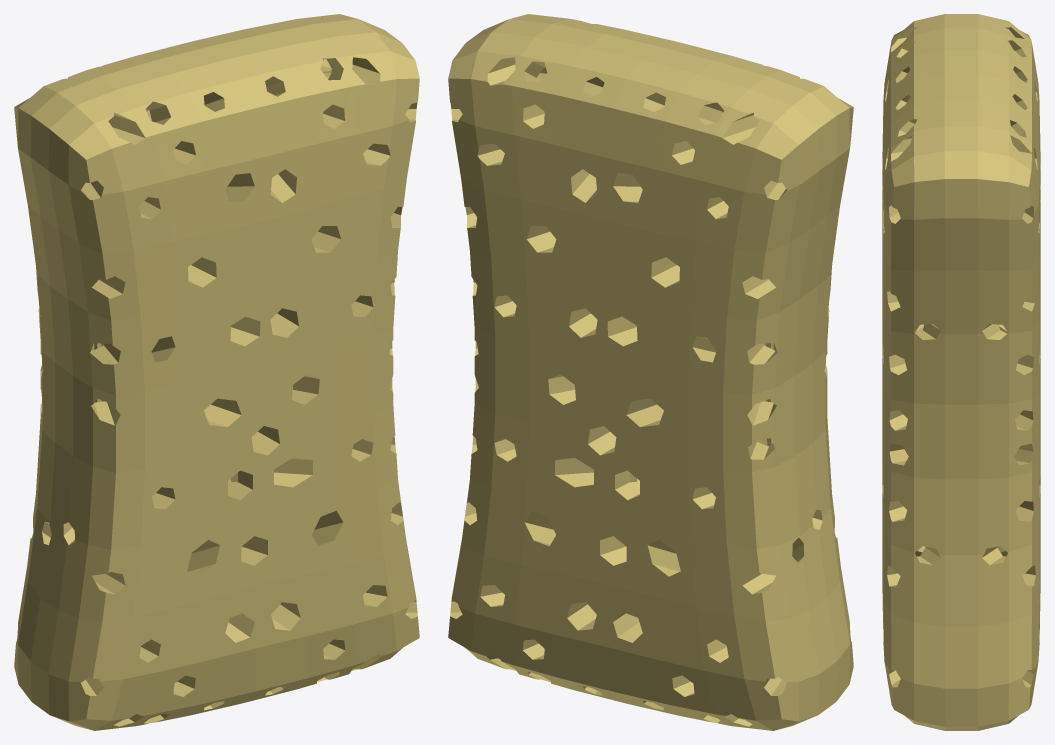
Rendered from Sponge.fbx.
3 renders of one model, left to right at view 1: azimuth 30°, elevation 25°; view 2: azimuth 150°, elevation 25°; view 3: azimuth 270°, elevation 25°, orthographic. The views are drawn at different scales.
Parts seen in each view (by area): view 1: Plane; view 2: Plane; view 3: Plane.
Part boxes in pixels (x1=…): Plane: x1=14, y1=14, x2=419, y2=730; Plane: x1=448, y1=14, x2=853, y2=730; Plane: x1=882, y1=14, x2=1040, y2=730.
Size of the model in its own units: 181 by 310 by 74.8.
